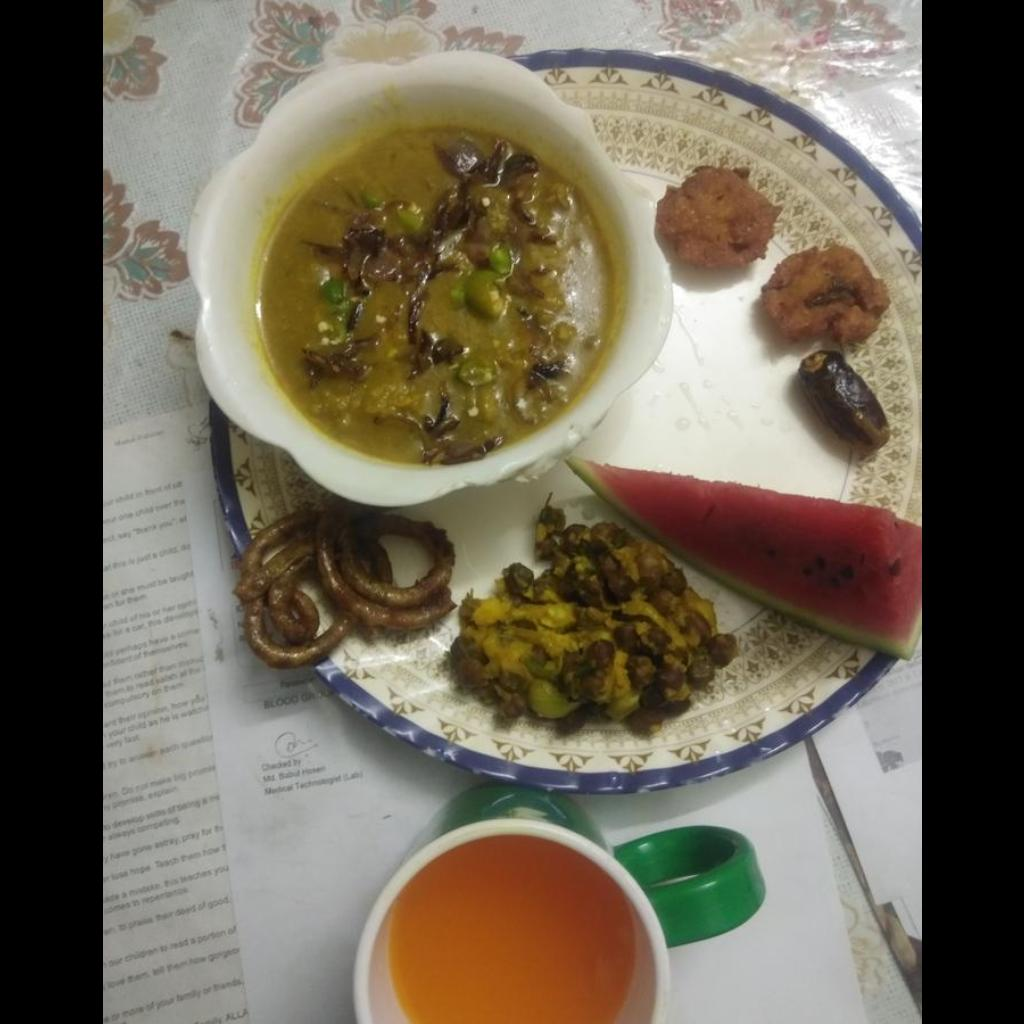chola: (454, 517, 737, 731)
daal: (276, 127, 611, 459)
dates: (800, 355, 891, 448)
jilapi: (241, 502, 460, 658)
juice: (395, 840, 636, 1017)
peyaju: (661, 162, 896, 345)
watermelon: (569, 458, 920, 652)
